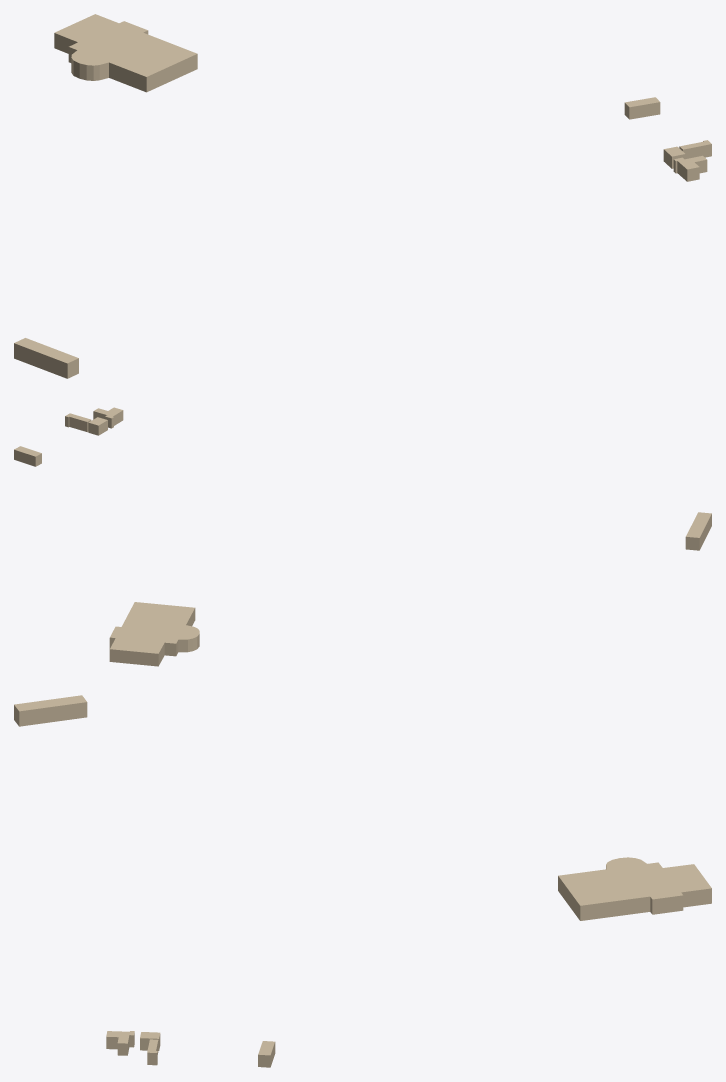
Rendered from -16_-6-estimated-coarse.glb.
3 views of the same model, one above another, from view 1: azimuth 30°, elevation 25°; view 2: azimuth 150°, elevation 25°; view 3: azimuth 270°, elevation 25° (orthographic). The views are drawn at different scales.
Size of the model in its own units: 751 by 15 by 620.
